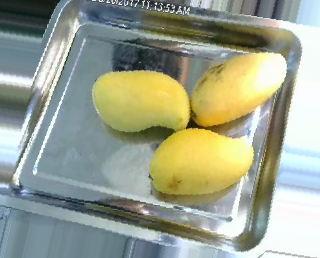Mango: (184, 49, 288, 127), (147, 126, 254, 199), (91, 66, 189, 132)
